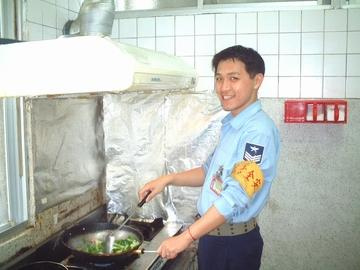without_mask: (202, 46, 272, 114)
